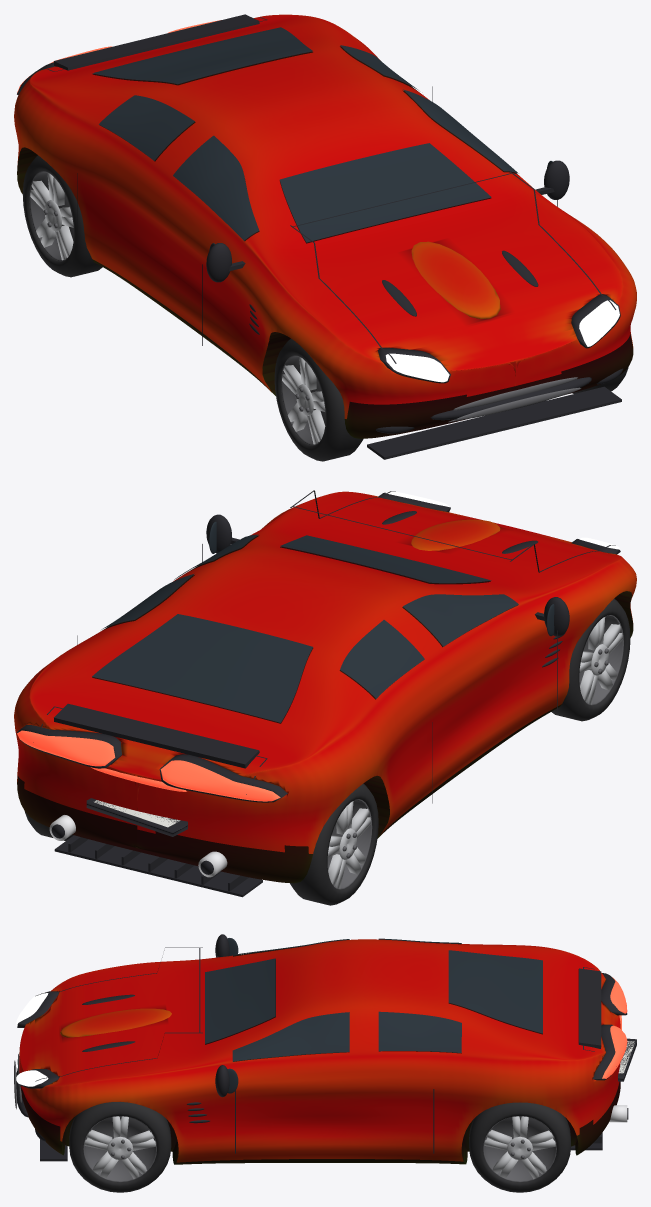
File: kestrel.glb
3 renders of one model, top to bottom at view 1: azimuth 30°, elevation 25°; view 2: azimuth 150°, elevation 25°; view 3: azimuth 270°, elevation 25°, orthographic. The views are drawn at different scales.
Visible parts, largest first — view 1: a_body, b_glass, wheel_fl, wheel_rl, splitter, spoiler, lamp_head_l, lamp_head_r, grille, grille_bar.001, mirror_l, mirror_r (+3 smaller); view 2: a_body, b_glass, wheel_rl, wheel_fl, spoiler, diffuser, lamp_tail_l, lamp_tail_r, lamp_tail_l_bezel, plate_recess, lamp_tail_r_bezel, mirror_l (+1 smaller); view 3: a_body, b_glass, wheel_fr, wheel_rr, spoiler, lamp_tail_r, lamp_tail_r_bezel, lamp_tail_l_bezel, splitter, lamp_head_l_bezel, lamp_head_r, lamp_head_l (+2 smaller).
Boxes of the visible parts, x1,y1,x2,y2 form: a_body: (14, 14, 636, 438); b_glass: (92, 27, 518, 242); wheel_fl: (274, 339, 363, 461); wheel_rl: (22, 155, 102, 277); splitter: (367, 386, 621, 459); spoiler: (54, 14, 259, 70); lamp_head_l: (385, 353, 449, 382); lamp_head_r: (579, 300, 619, 346); grille: (430, 377, 591, 420); grille_bar.001: (455, 387, 581, 420); mirror_l: (206, 243, 231, 282); mirror_r: (544, 160, 569, 199); a_body: (14, 491, 636, 883); b_glass: (92, 534, 518, 722); wheel_rl: (290, 783, 378, 905); wheel_fl: (551, 598, 630, 721); spoiler: (54, 703, 259, 768); diffuser: (54, 835, 262, 897); lamp_tail_l: (160, 760, 280, 801); lamp_tail_r: (17, 730, 115, 766); lamp_tail_l_bezel: (159, 754, 287, 802); plate_recess: (86, 798, 187, 836); lamp_tail_r_bezel: (17, 724, 121, 768); mirror_l: (544, 597, 569, 636); a_body: (19, 939, 620, 1164); b_glass: (205, 938, 542, 1061); wheel_fr: (69, 1102, 171, 1192); wheel_rr: (469, 1102, 570, 1192); spoiler: (578, 968, 601, 1048); lamp_tail_r: (602, 1025, 627, 1078); lamp_tail_r_bezel: (593, 1024, 615, 1080); lamp_tail_l_bezel: (601, 973, 627, 1015); splitter: (40, 1139, 67, 1161); lamp_head_l_bezel: (17, 991, 59, 1027); lamp_head_r: (16, 1070, 48, 1086); lamp_head_l: (16, 992, 48, 1026).
Size of the model in its own units: 2.04 by 1.15 by 3.83.
